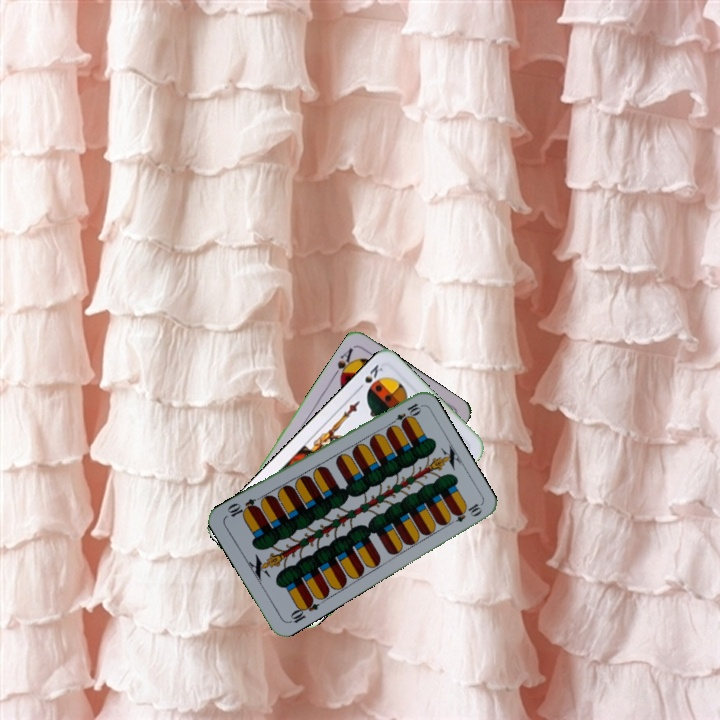E10: (285, 594, 321, 626), (386, 399, 423, 429)
SA: (329, 344, 358, 383)
SK: (353, 360, 385, 393)
